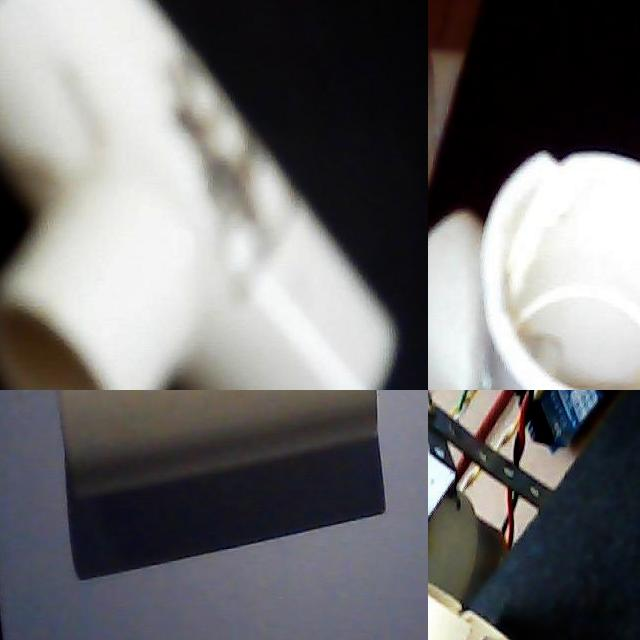Defective: (179, 107, 261, 245), (428, 607, 496, 640)
T Joint: (428, 149, 640, 390), (58, 390, 378, 499)
